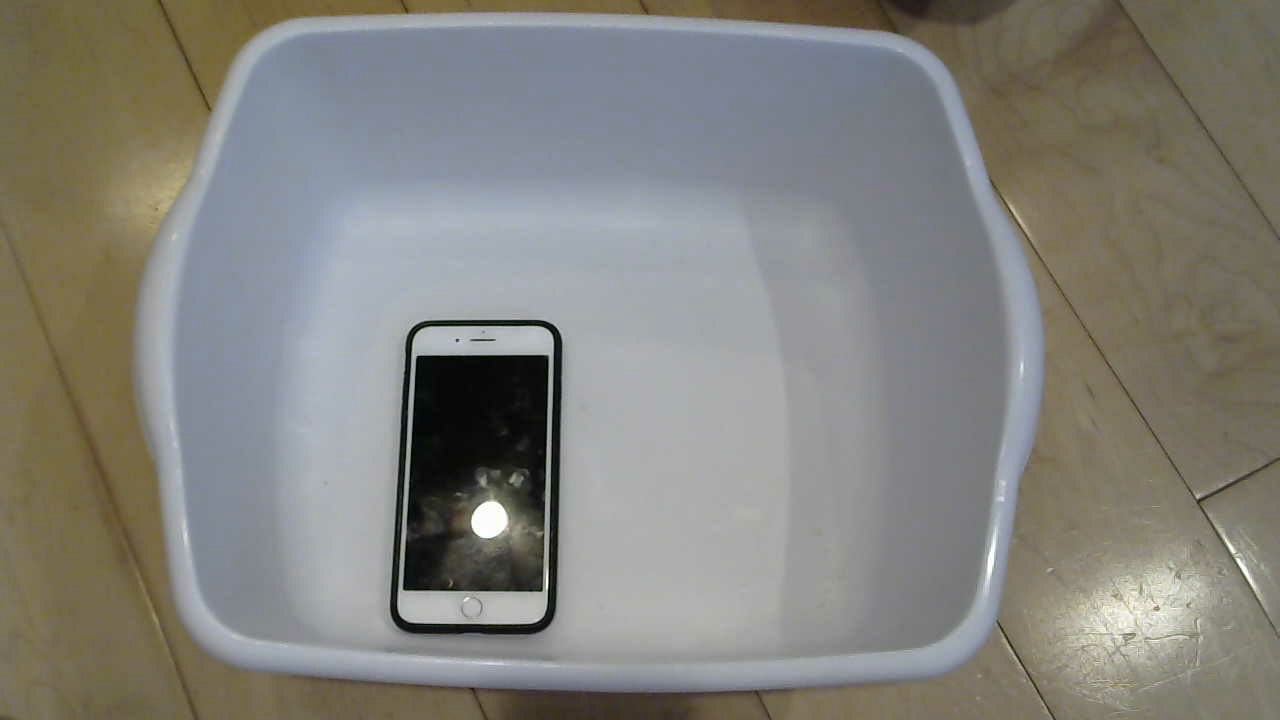phone: (375, 311, 582, 644)
